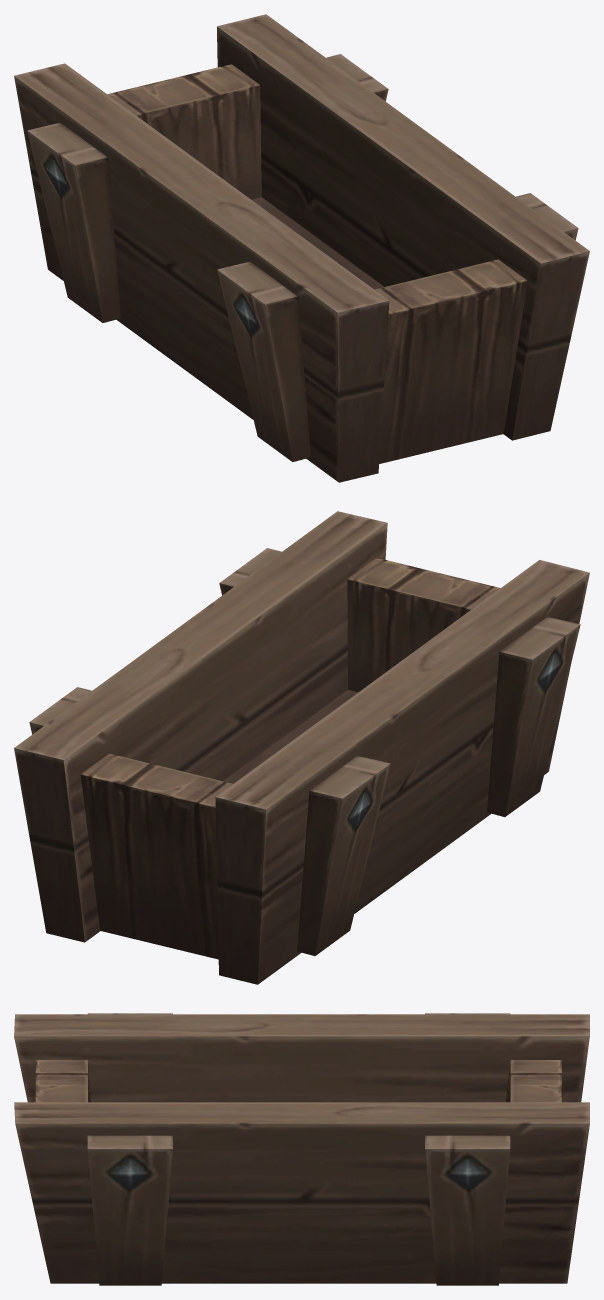
File: bandit_trough_01.fbx
The picture shows the model from 3 angles, top to bottom: view 1: azimuth 30°, elevation 25°; view 2: azimuth 150°, elevation 25°; view 3: azimuth 270°, elevation 25°; orthographic projection. The views are drawn at different scales.
Visible parts, largest first — view 1: obj0.643; view 2: obj0.643; view 3: obj0.643.
Boxes of the visible parts, left/top/right/bottom form: obj0.643: left=14, top=14, right=589, bottom=482; obj0.643: left=14, top=511, right=589, bottom=984; obj0.643: left=14, top=1013, right=589, bottom=1285.
Bounding box in the file's own units: 1.57 × 0.9084 × 2.81.
